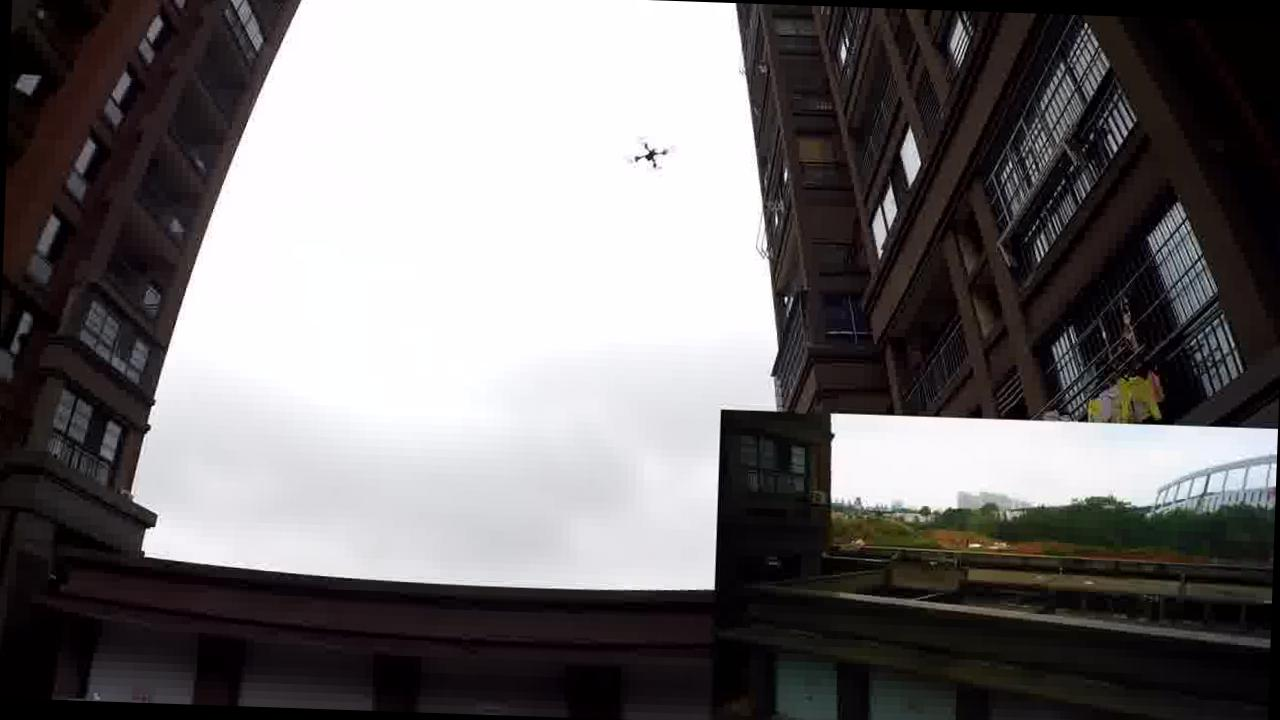drone: (624, 136, 670, 179)
